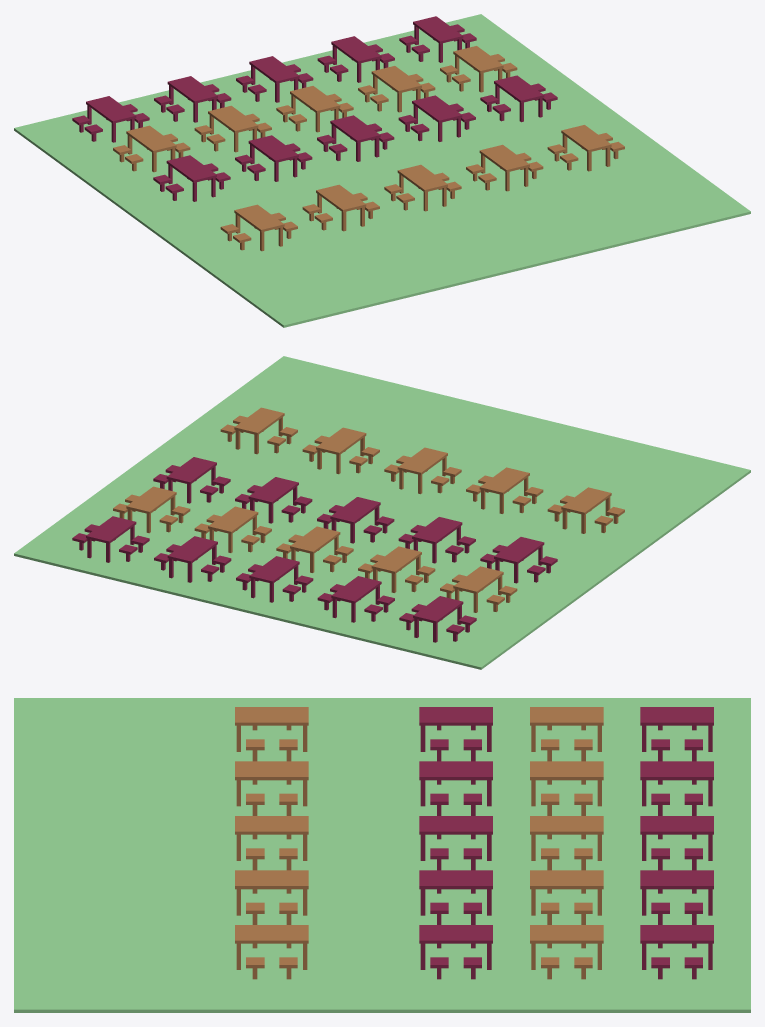
The model's file is cafe.glb.
3 renders of one model, top to bottom at view 1: azimuth 30°, elevation 25°; view 2: azimuth 150°, elevation 25°; view 3: azimuth 270°, elevation 25°, orthographic. The views are drawn at different scales.
Parts seen in each view (by area): view 1: Floor-col.004, TableChair.003, TableChair, TableChair.001, TableChair.002; view 2: Floor-col.004, TableChair.003, TableChair.002, TableChair, TableChair.001; view 3: Floor-col.004, TableChair.003, TableChair, TableChair.001, TableChair.002.
Boxes of the visible parts, x1,y1,x2,y2 form: Floor-col.004: (14, 14, 750, 327); TableChair.003: (220, 125, 624, 251); TableChair: (153, 75, 557, 201); TableChair.001: (113, 46, 517, 172); TableChair.002: (72, 16, 476, 142); Floor-col.004: (14, 356, 750, 669); TableChair.003: (220, 407, 624, 533); TableChair.002: (72, 516, 476, 642); TableChair: (153, 457, 557, 583); TableChair.001: (113, 486, 517, 612); Floor-col.004: (14, 698, 750, 1012); TableChair.003: (235, 707, 308, 979); TableChair: (419, 707, 492, 979); TableChair.001: (530, 707, 603, 979); TableChair.002: (640, 707, 713, 979).
Bounding box in the file's own units: 20 × 1 × 20.
Materials: 1 (1 with a texture image).
